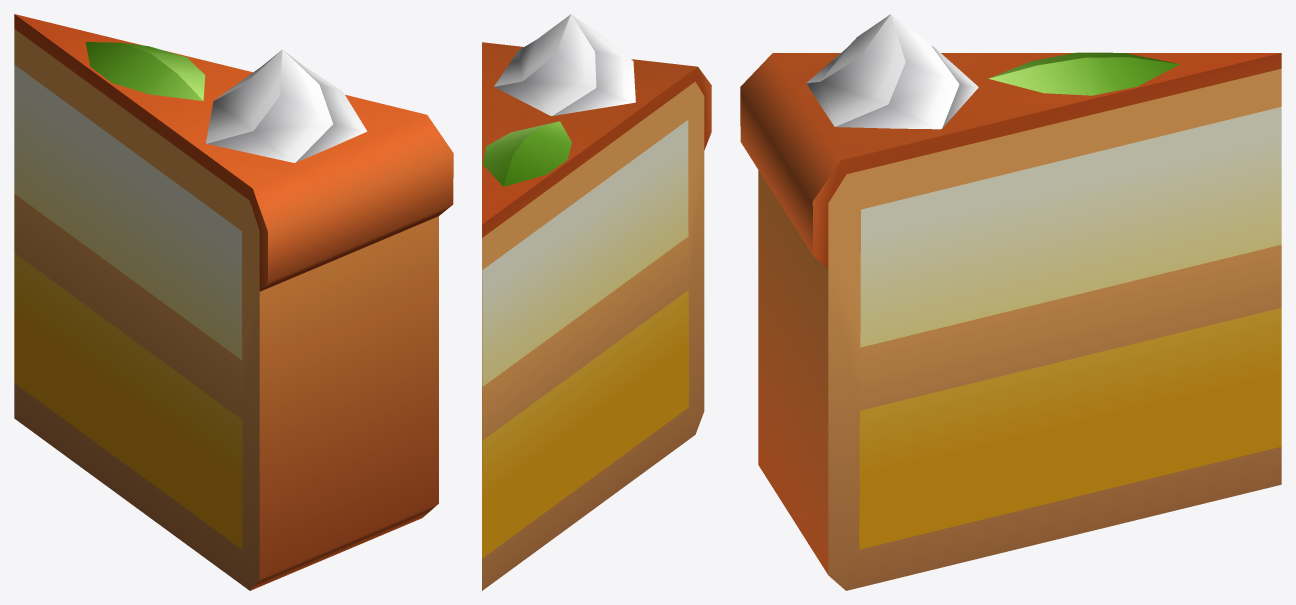
File: m_OrangeCake01_Slice01.fbx
3 views of the same model, side by side, from view 1: azimuth 30°, elevation 25°; view 2: azimuth 150°, elevation 25°; view 3: azimuth 270°, elevation 25° (orthographic). The views are drawn at different scales.
Visible parts, largest first — view 1: m_OrangeCake01_Slice01; view 2: m_OrangeCake01_Slice01; view 3: m_OrangeCake01_Slice01.
Part boxes in pixels (bbox=[...]): m_OrangeCake01_Slice01: bbox=[14, 14, 453, 590]; m_OrangeCake01_Slice01: bbox=[482, 14, 711, 590]; m_OrangeCake01_Slice01: bbox=[740, 14, 1281, 590].
Size of the model in its own units: 6.52 by 13.68 by 13.04.
